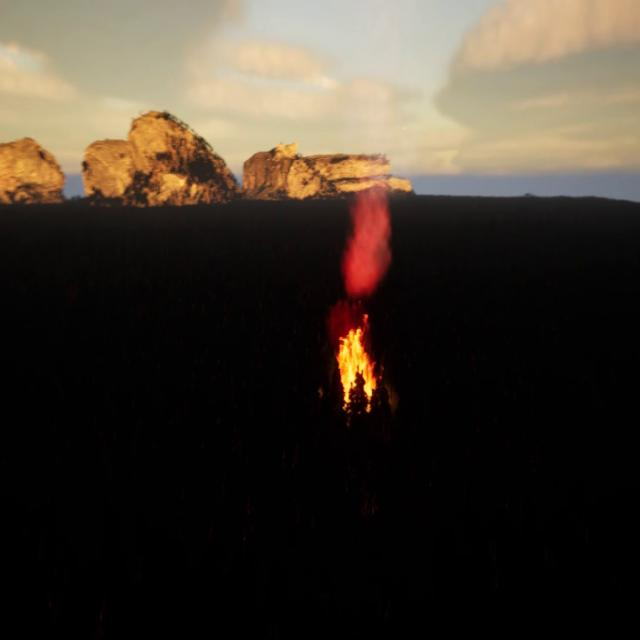fire: (334, 324, 378, 400)
smoke: (342, 174, 390, 294)
